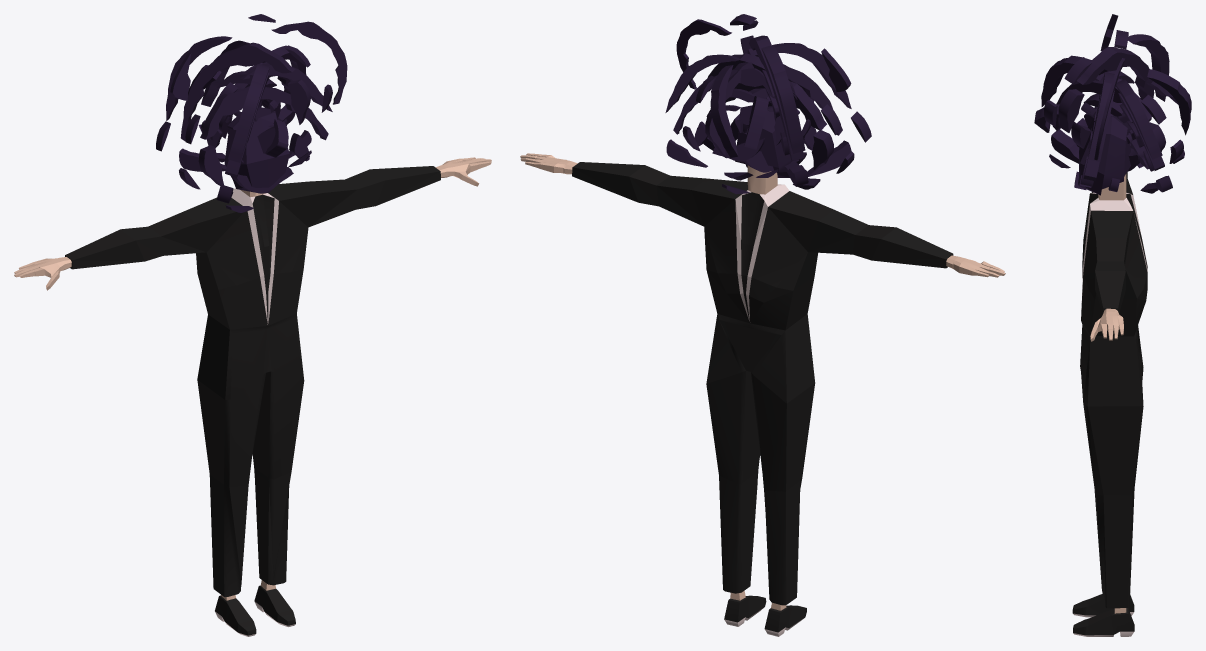
Rendered from personazh.fbx.
3 views of the same model, side by side, from view 1: azimuth 30°, elevation 25°; view 2: azimuth 150°, elevation 25°; view 3: azimuth 270°, elevation 25° (orthographic).
Parts seen in each view (by area): view 1: boshka2; view 2: boshka2; view 3: boshka2.
Boxes of the visible parts, left/top/right/bottom form: boshka2: left=14, top=14, right=491, bottom=636; boshka2: left=520, top=14, right=1005, bottom=636; boshka2: left=1034, top=14, right=1191, bottom=636.
Size of the model in its own units: 667 by 799 by 191.
